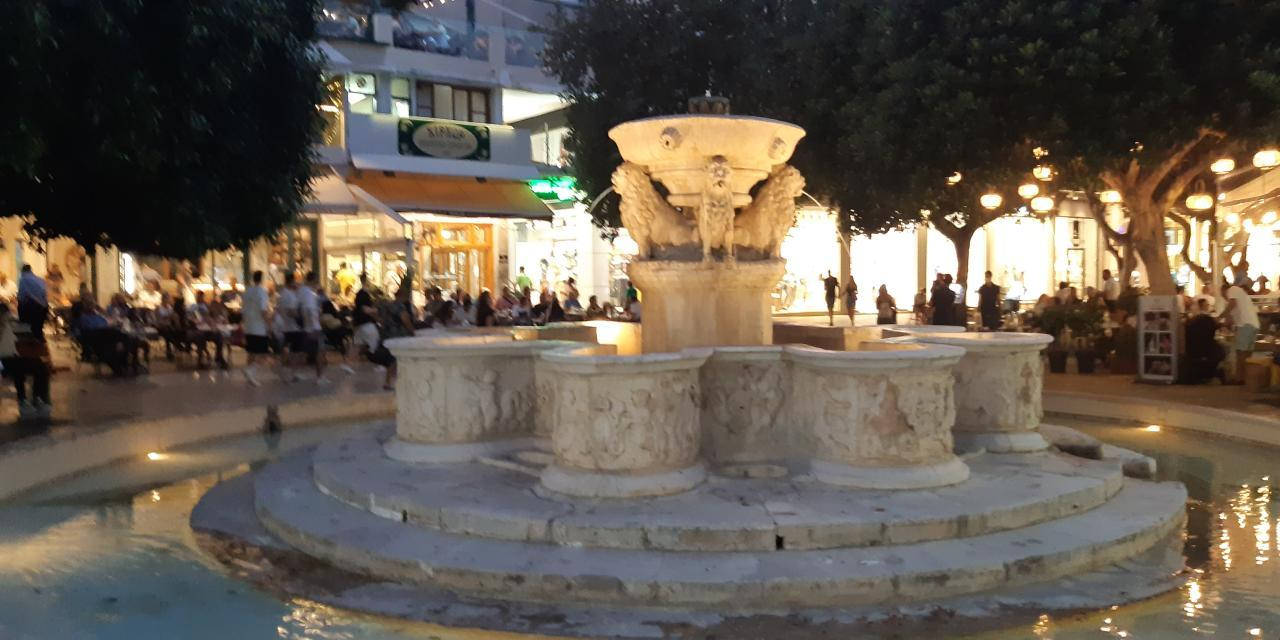Liontaria: (388, 111, 1053, 496)
